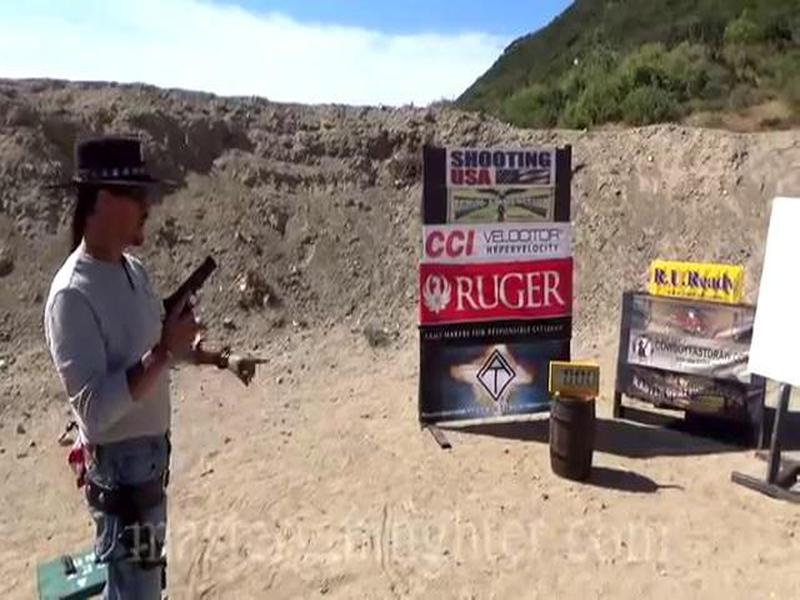Pistola: (151, 245, 217, 366)
